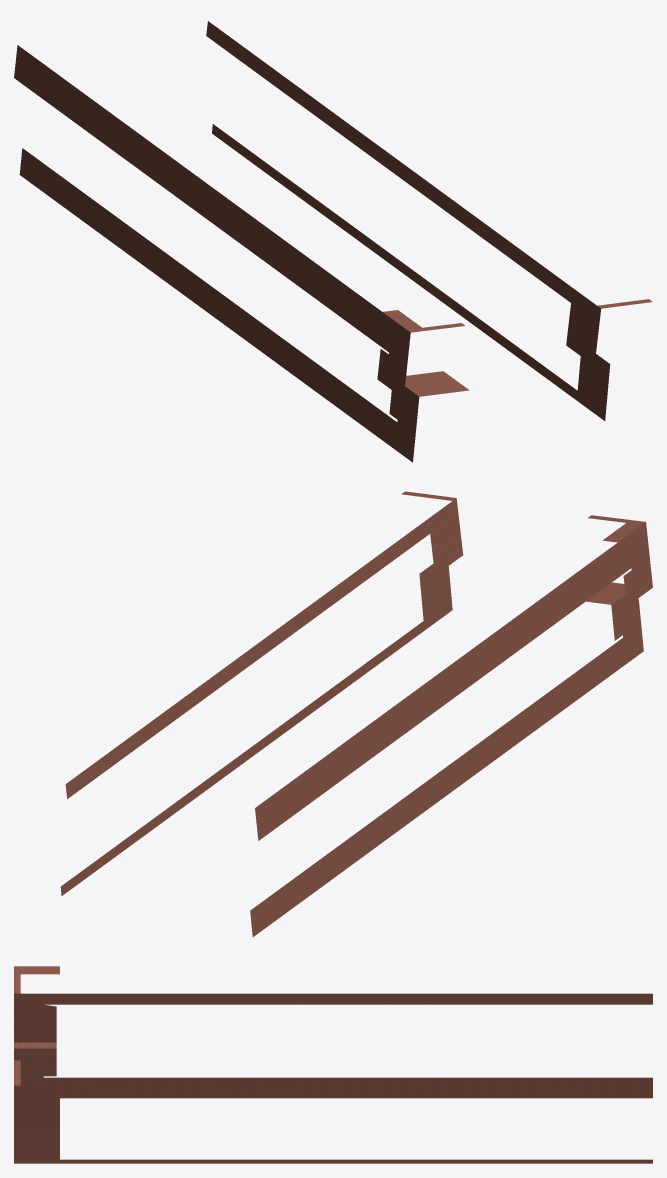
Rendered from data18.glb.
3 renders of one model, top to bottom at view 1: azimuth 30°, elevation 25°; view 2: azimuth 150°, elevation 25°; view 3: azimuth 270°, elevation 25°, orthographic. The views are drawn at different scales.
Visible parts, largest first — view 1: data18; view 2: data18; view 3: data18.
Boxes of the visible parts, <box> form: data18: <box>14,21,652,462</box>; data18: <box>60,491,652,937</box>; data18: <box>14,966,652,1163</box>.
Bounding box in the file's own units: 35.49 × 18.81 × 97.
1 material, 1 textured.
